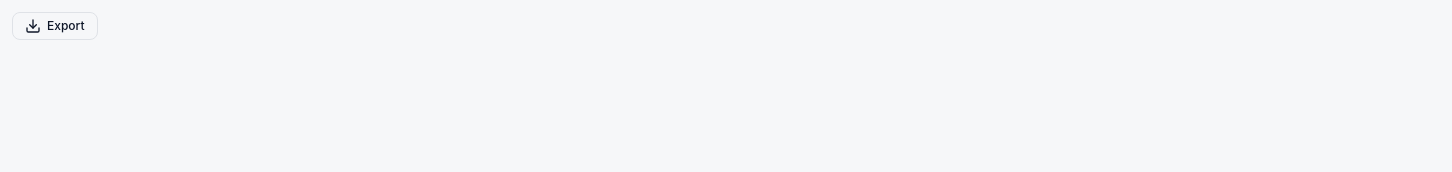
StudentExportActions — error UI with retry › shows an inline error alert with a Retry button after CSV failure
Click the button "Export" at (55, 26), box [12, 12, 98, 40]
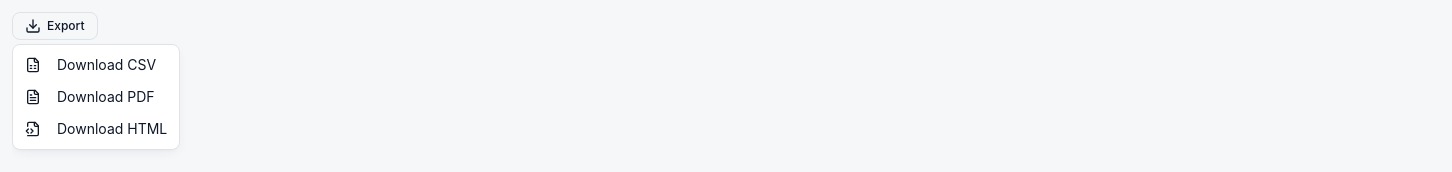
Click the menu item "Download CSV" at (91, 64), box [25, 56, 156, 73]
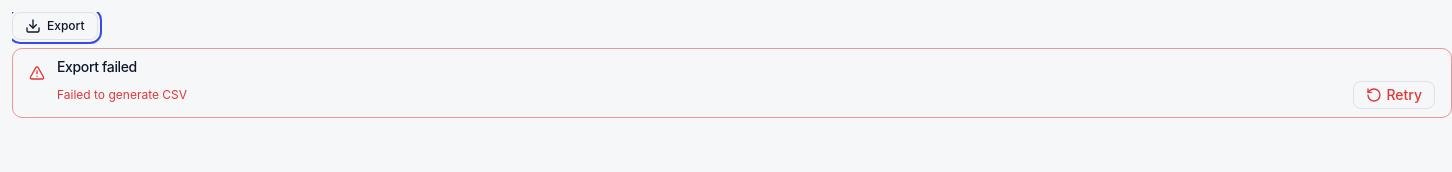
Check: the message shows "Export failed", box [57, 58, 137, 75]
Check: the message shows "Failed to generate CSV", box [57, 87, 187, 102]
Check: the button "Retry" is shown, box [1353, 81, 1435, 109]
